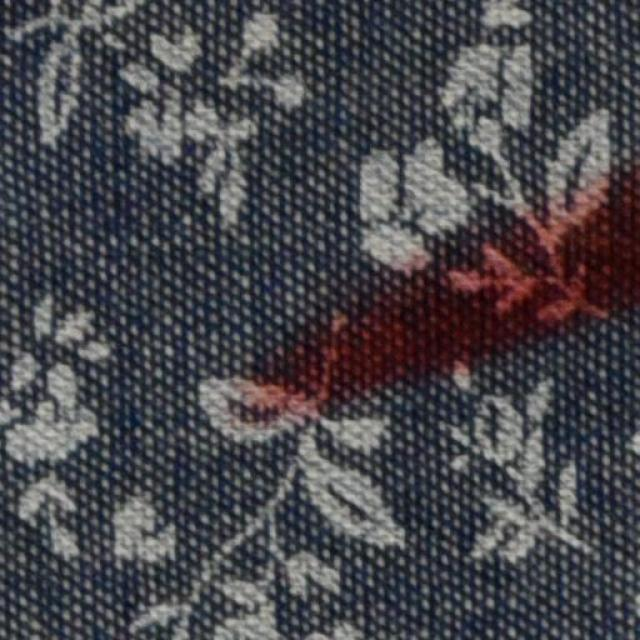Stain: (224, 153, 639, 439)
